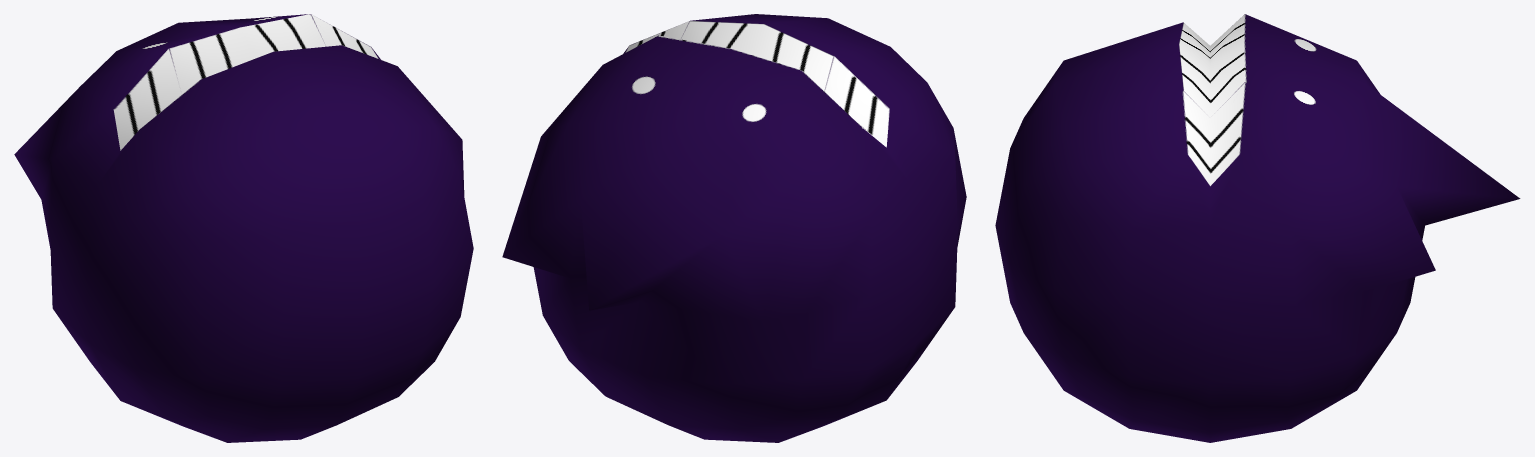
File: boss.obj
3 renders of one model, left to right at view 1: azimuth 30°, elevation 25°; view 2: azimuth 150°, elevation 25°; view 3: azimuth 270°, elevation 25°, orthographic. The views are drawn at different scales.
Parts seen in each view (by area): view 1: Cube; view 2: Cube; view 3: Cube.
Boxes of the visible parts, left/top/right/bottom form: Cube: left=14, top=14, right=473, bottom=442; Cube: left=502, top=14, right=966, bottom=442; Cube: left=995, top=14, right=1520, bottom=442.
Size of the model in its own units: 4.57 by 4.86 by 6.15.
1 material, 1 textured.
